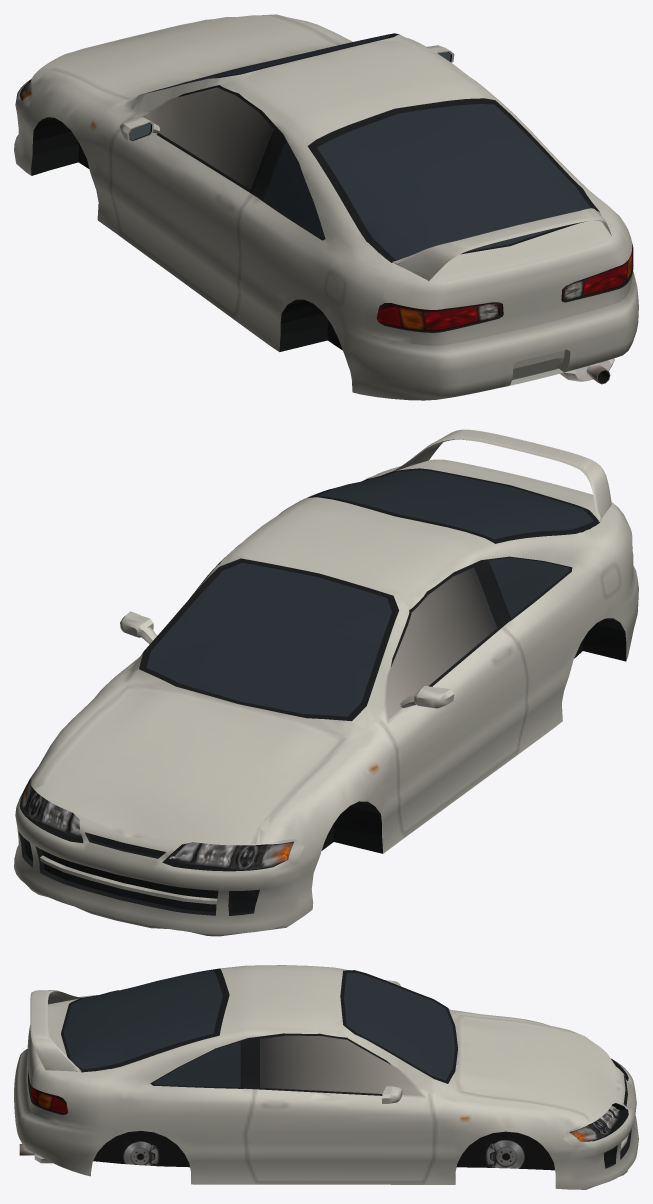
The model's file is liftback_95.obj.
3 views of the same model, one above another, from view 1: azimuth 30°, elevation 25°; view 2: azimuth 150°, elevation 25°; view 3: azimuth 270°, elevation 25° (orthographic). The views are drawn at different scales.
Visible parts, largest first — view 1: liftback_95; view 2: liftback_95; view 3: liftback_95.
Part boxes in pixels (left/top/right/bottom): liftback_95: left=14, top=14, right=638, bottom=400; liftback_95: left=14, top=429, right=638, bottom=936; liftback_95: left=14, top=965, right=638, bottom=1189.
Size of the model in its own units: 1.94 by 1.15 by 4.38.
1 material, 1 textured.
